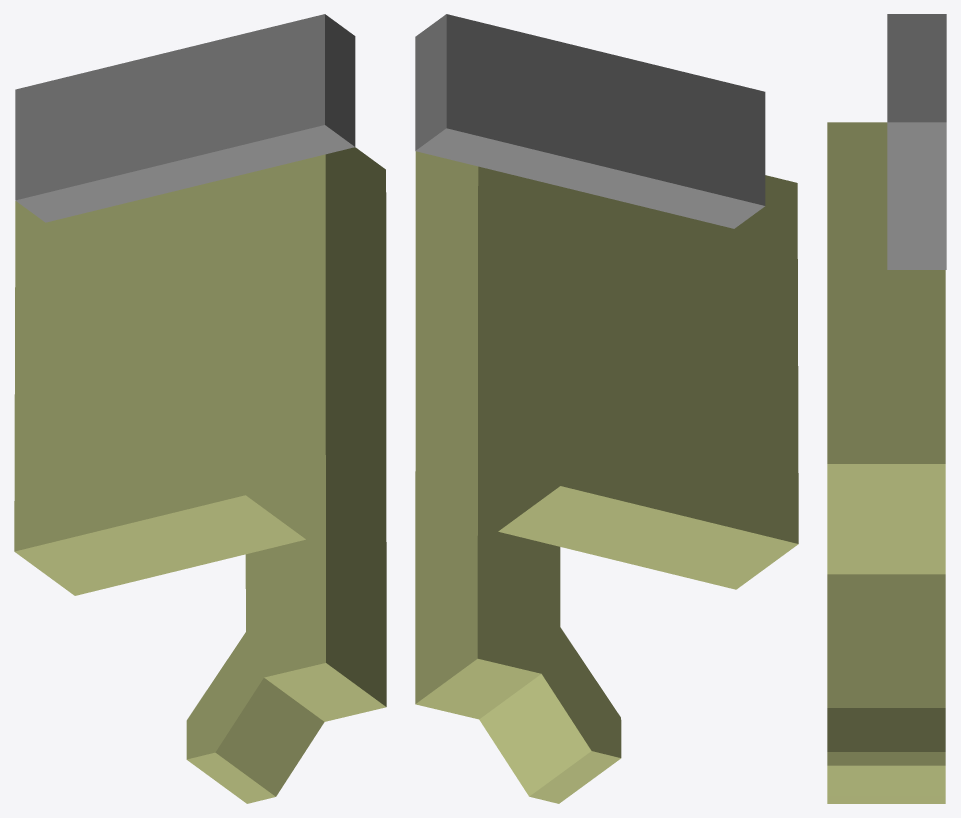
3 views of the same model, side by side, from view 1: azimuth 30°, elevation 25°; view 2: azimuth 150°, elevation 25°; view 3: azimuth 270°, elevation 25° (orthographic). The views are drawn at different scales.
Visible parts, largest first — view 1: 0_3_2_2_3_0_1_2_1; view 2: 0_3_2_2_3_0_1_2_1; view 3: 0_3_2_2_3_0_1_2_1.
Part boxes in pixels (<box>): 0_3_2_2_3_0_1_2_1: <box>14,14,386,803</box>; 0_3_2_2_3_0_1_2_1: <box>415,14,798,803</box>; 0_3_2_2_3_0_1_2_1: <box>827,14,946,803</box>.
Size of the model in its own units: 17.81 by 38.84 by 6.05.
